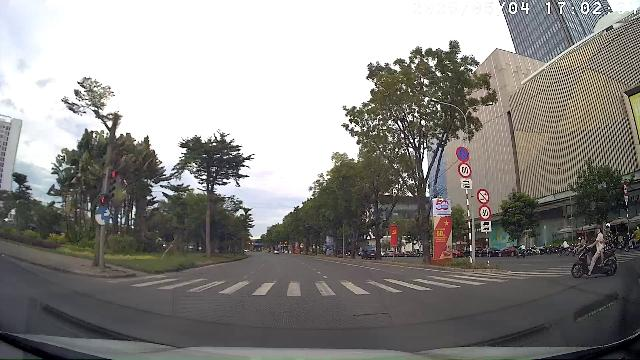127-toc-do-toi-da-60: (478, 204, 492, 221)
127-toc-do-toi-da-80: (457, 162, 472, 178)
130-cam-dung-va-do-xe: (456, 146, 470, 162)
